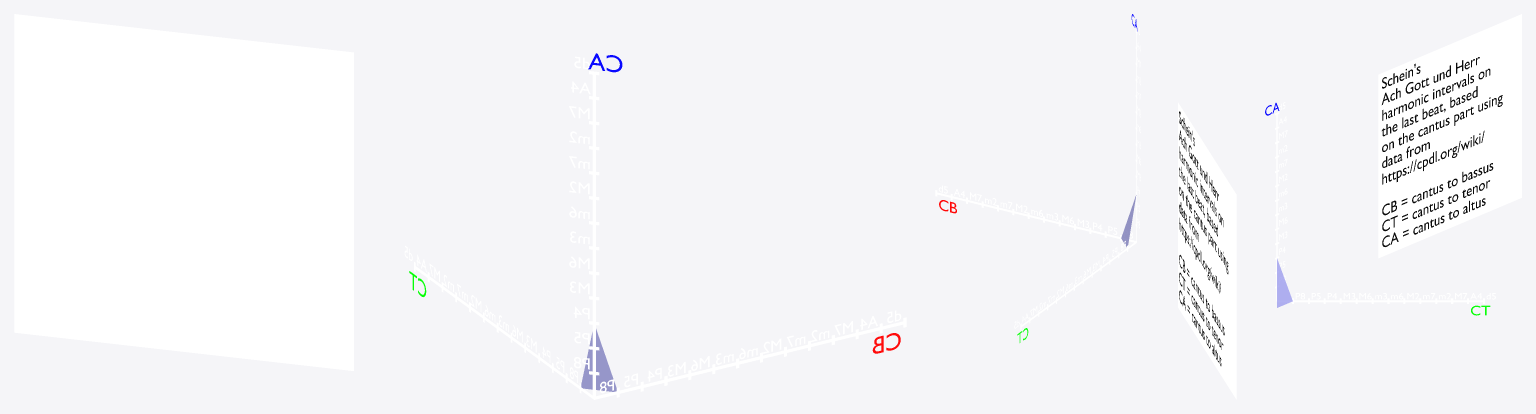
Rendered from cantusFinalChart.glb.
3 renders of one model, left to right at view 1: azimuth 30°, elevation 25°; view 2: azimuth 150°, elevation 25°; view 3: azimuth 270°, elevation 25°, orthographic. The views are drawn at different scales.
Parts seen in each view (by area): view 1: textBox, z_axis, x_axis, intervals, y_axis; view 2: textBox, text, x_axis, y_axis; view 3: textBox, text, y_axis, z_axis, intervals.
Boxes of the visible parts, x1,y1,x2,y2 form: textBox: (14, 14, 353, 370); z_axis: (589, 71, 599, 398); x_axis: (594, 317, 906, 399); intervals: (581, 329, 616, 391); y_axis: (414, 262, 594, 399); textBox: (1178, 102, 1236, 399); text: (1179, 111, 1228, 365); x_axis: (935, 190, 1135, 242); y_axis: (1020, 241, 1136, 329); textBox: (1378, 14, 1521, 258); text: (1382, 57, 1502, 246); y_axis: (1277, 298, 1484, 303); z_axis: (1275, 112, 1279, 301); intervals: (1277, 258, 1292, 307).
Bounding box in the file's own units: 2.19 × 1.14 × 1.24.
